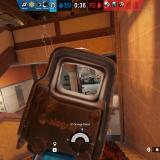Character: (80, 76, 82, 87)
Friend_label: (36, 24, 54, 32)
Head: (80, 76, 82, 80)
